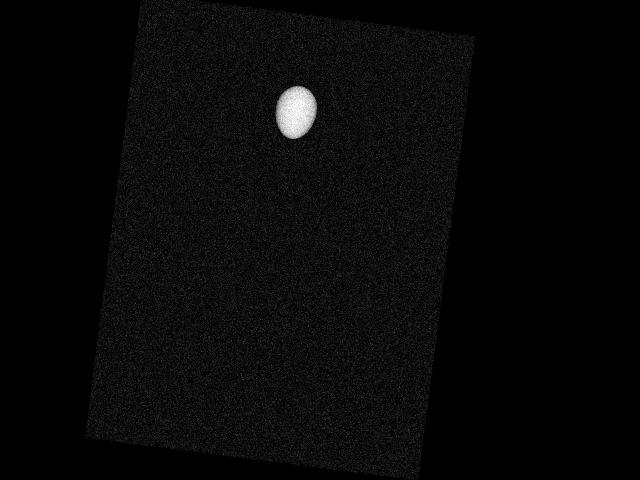egg: (271, 83, 319, 140)
